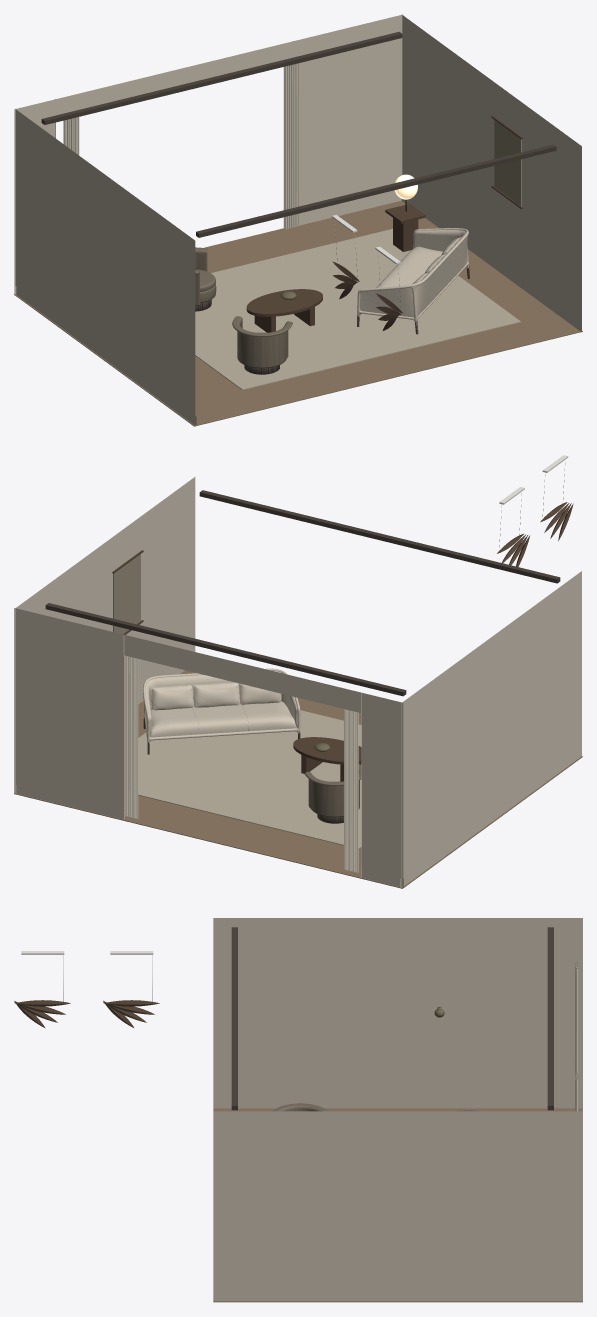
File: great-1.glb
The picture shows the model from 3 angles, top to bottom: view 1: azimuth 30°, elevation 25°; view 2: azimuth 150°, elevation 25°; view 3: azimuth 270°, elevation 25°; orthographic projection. The views are drawn at different scales.
Visible parts, largest first — view 1: DESIGN | great removable wall finish, DESIGN | Great room primary ground, DESIGN | great floor finish, DESIGN | Great room sofa facing conversation, DESIGN | Retreat concealed light edge.001, DESIGN | Retreat concealed light edge, DESIGN | Great room soft window edge.001, DESIGN | Required Bellustar swivel chair one, DESIGN | Great room linen hanging, DESIGN | R7 low conversation table, DESIGN | Required Bellustar swivel chair two, DESIGN | Side reading perch base (+1 smaller); view 2: DESIGN | great removable wall finish, DESIGN | Great room primary ground, DESIGN | Great room sofa facing conversation, DESIGN | great floor finish, DESIGN | Retreat concealed light edge, DESIGN | Retreat concealed light edge.001, DESIGN | Great room soft window edge, DESIGN | Great room soft window edge.001, DESIGN | Great room linen hanging, DESIGN | Required Bellustar swivel chair two, DESIGN | R7 low conversation table, DESIGN | Required Flou pendant 1; view 3: DESIGN | great removable wall finish, DESIGN | great floor finish, DESIGN | Retreat concealed light edge, DESIGN | Retreat concealed light edge.001, DESIGN | Required Flou pendant 2, DESIGN | Required Flou pendant 1.
Part boxes in pixels (left/top/right/bottom): DESIGN | great removable wall finish: left=14, top=14, right=581, bottom=425; DESIGN | Great room primary ground: left=195, top=229, right=520, bottom=390; DESIGN | great floor finish: left=14, top=200, right=582, bottom=426; DESIGN | Great room sofa facing conversation: left=357, top=228, right=469, bottom=334; DESIGN | Retreat concealed light edge.001: left=41, top=31, right=402, bottom=124; DESIGN | Retreat concealed light edge: left=196, top=144, right=556, bottom=237; DESIGN | Great room soft window edge.001: left=283, top=63, right=299, bottom=229; DESIGN | Required Bellustar swivel chair one: left=232, top=316, right=292, bottom=374; DESIGN | Great room linen hanging: left=494, top=120, right=521, bottom=206; DESIGN | R7 low conversation table: left=246, top=289, right=322, bottom=316; DESIGN | Required Bellustar swivel chair two: left=195, top=247, right=216, bottom=311; DESIGN | Side reading perch base: left=393, top=218, right=418, bottom=251; DESIGN | great removable wall finish: left=14, top=477, right=581, bottom=887; DESIGN | Great room primary ground: left=138, top=710, right=361, bottom=848; DESIGN | Great room sofa facing conversation: left=143, top=668, right=300, bottom=754; DESIGN | great floor finish: left=14, top=670, right=582, bottom=888; DESIGN | Retreat concealed light edge: left=199, top=490, right=560, bottom=583; DESIGN | Retreat concealed light edge.001: left=45, top=603, right=406, bottom=696; DESIGN | Great room soft window edge: left=344, top=709, right=358, bottom=873; DESIGN | Great room soft window edge.001: left=124, top=655, right=138, bottom=819; DESIGN | Great room linen hanging: left=113, top=554, right=140, bottom=634; DESIGN | Required Bellustar swivel chair two: left=304, top=764, right=361, bottom=823; DESIGN | R7 low conversation table: left=293, top=737, right=361, bottom=764; DESIGN | Required Flou pendant 1: left=540, top=502, right=573, bottom=540; DESIGN | great removable wall finish: left=213, top=918, right=582, bottom=1301; DESIGN | great floor finish: left=213, top=1108, right=582, bottom=1302; DESIGN | Retreat concealed light edge: left=231, top=927, right=237, bottom=1110; DESIGN | Retreat concealed light edge.001: left=547, top=927, right=553, bottom=1110; DESIGN | Required Flou pendant 2: left=103, top=1000, right=159, bottom=1027; DESIGN | Required Flou pendant 1: left=14, top=1000, right=70, bottom=1028.
Bounding box in the file's own units: 6 × 3.04 × 7.42.
